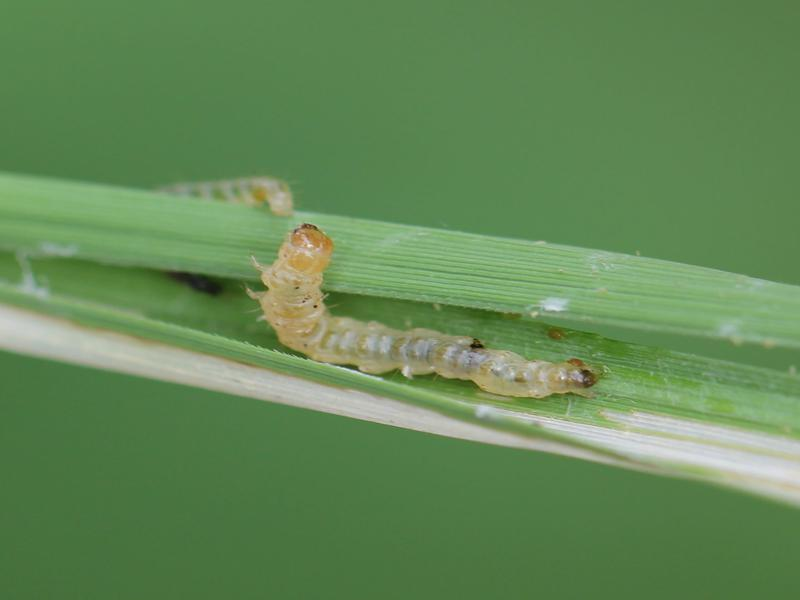Leaf_folder: (253, 226, 601, 404), (154, 170, 307, 223)
